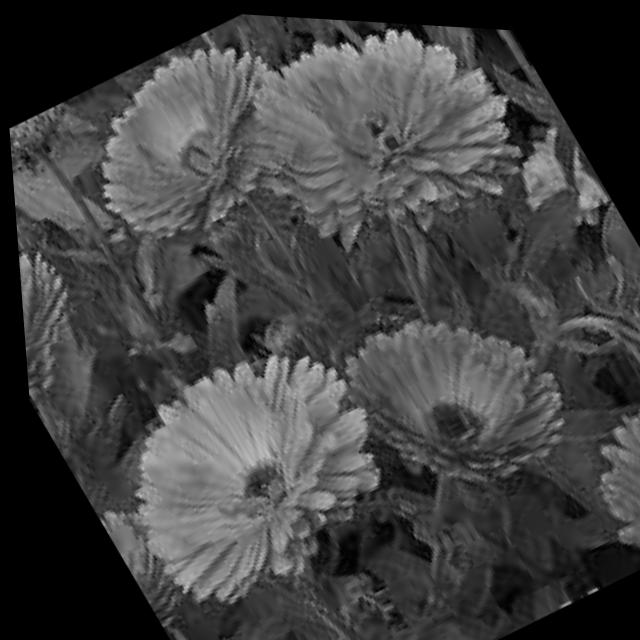Flower: (68, 314, 411, 627), (213, 10, 555, 291), (287, 259, 588, 537), (40, 16, 329, 265), (543, 341, 640, 551), (13, 224, 108, 407)
